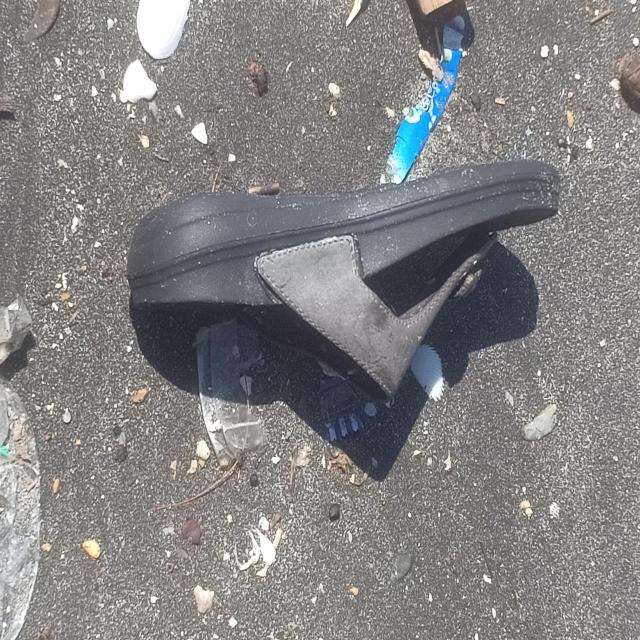litter: (136, 163, 564, 403), (1, 312, 44, 638), (136, 0, 197, 60)
